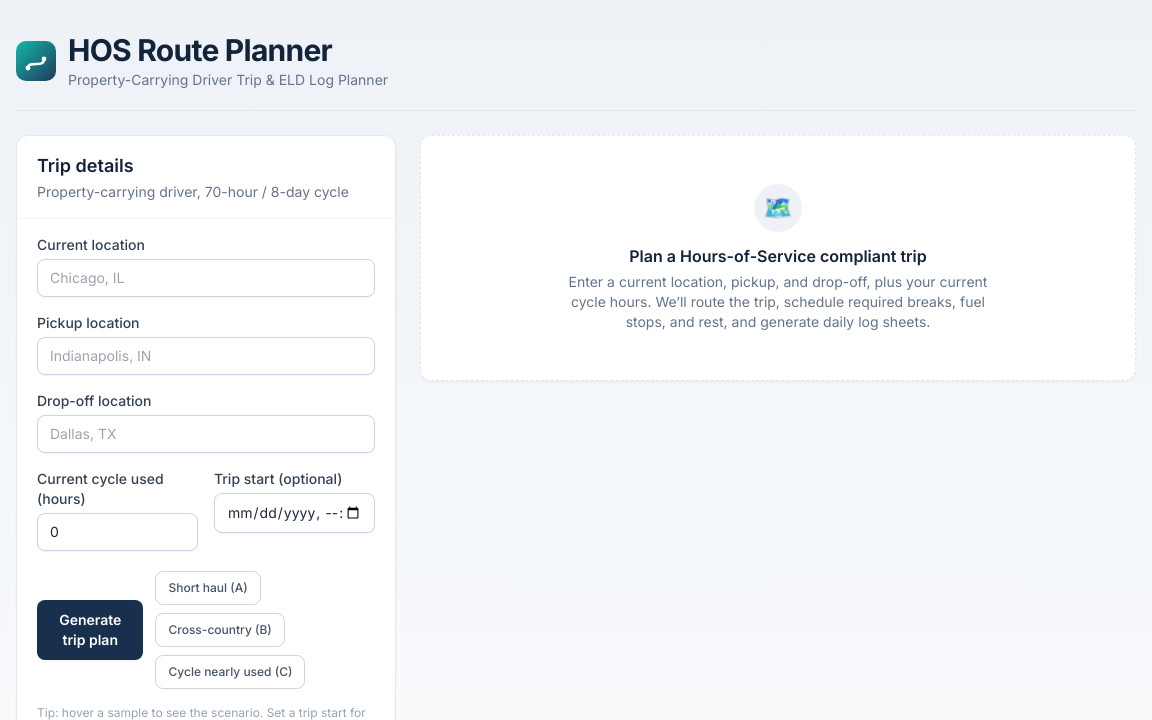
Scenario: TripPlannerPage › renders a helpful error state on API failure
The width and height of the screenshot is (1152, 720).
Click the button "Short haul (A)": coordinates (208, 588) [156, 571, 261, 605]
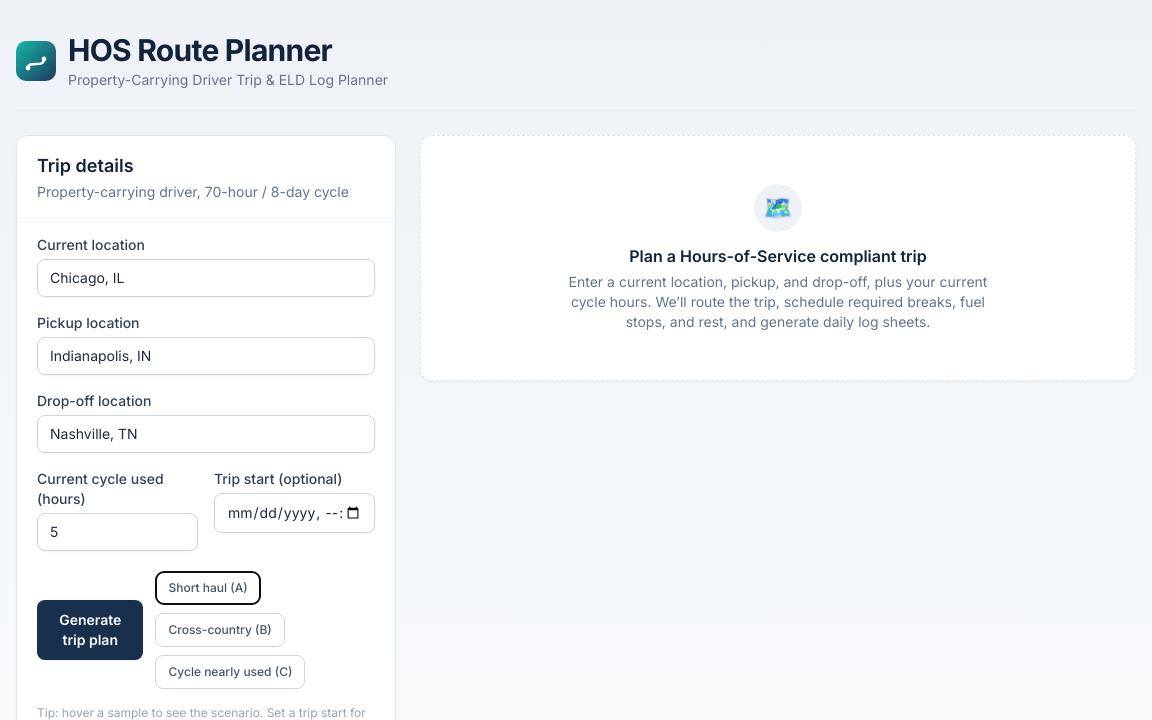
Click the button "Generate trip plan": coordinates (90, 630) [37, 600, 144, 660]
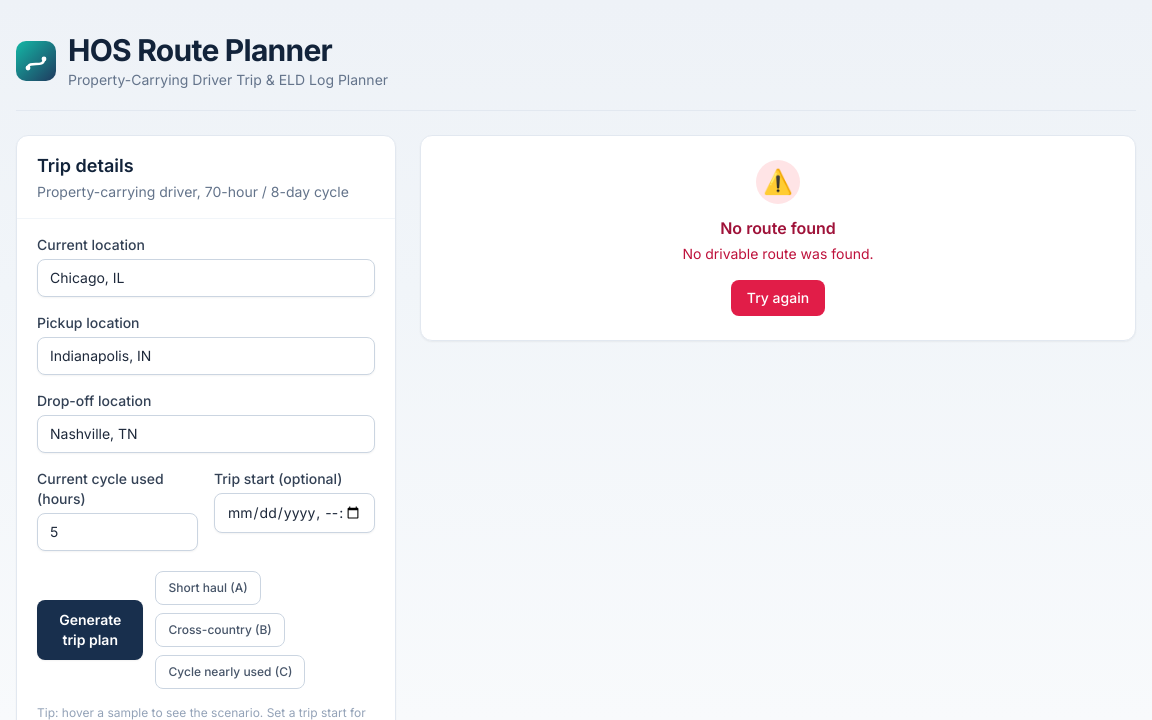
Expected: the heading "No route found" is shown, [720, 218, 836, 238]
Expected: the text "No drivable route was found." is shown, [682, 245, 874, 262]
Expected: the button "Try again" is shown, [731, 280, 825, 316]
